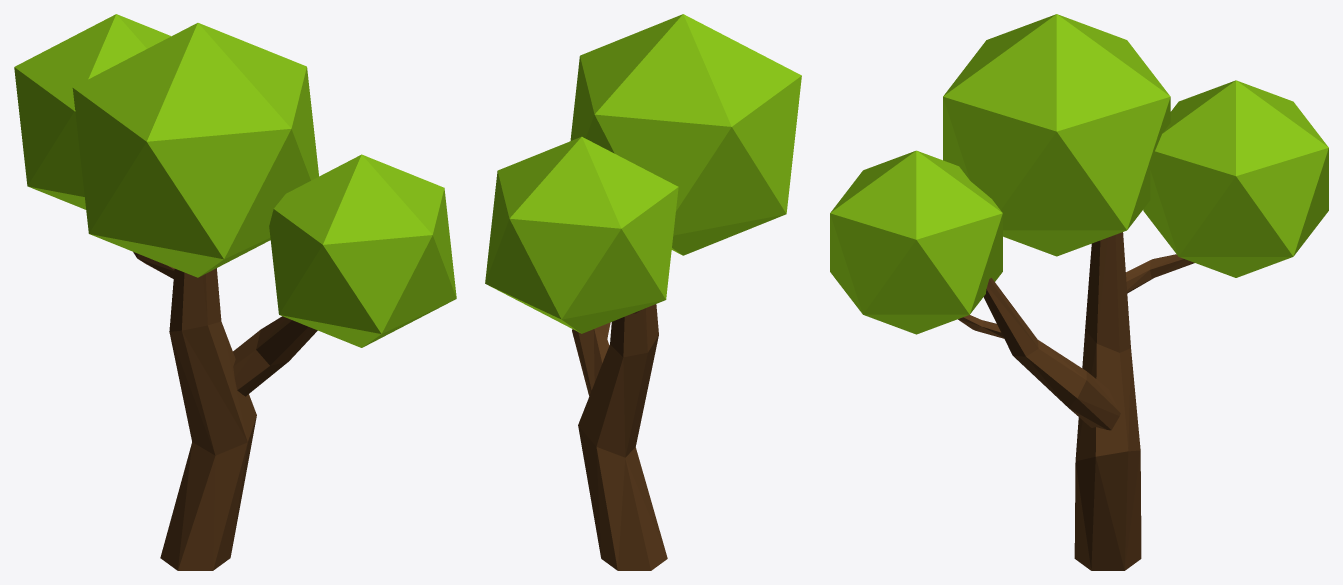
File: tree_fixed.fbx
The picture shows the model from 3 angles, left to right: view 1: azimuth 30°, elevation 25°; view 2: azimuth 150°, elevation 25°; view 3: azimuth 270°, elevation 25°; orthographic projection. The views are drawn at different scales.
Parts seen in each view (by area): view 1: Icosphere.002; view 2: Icosphere.002; view 3: Icosphere.002.
Boxes of the visible parts, box(x1,y1,x2,y2) form: Icosphere.002: box(14, 14, 456, 570); Icosphere.002: box(485, 14, 801, 570); Icosphere.002: box(830, 14, 1328, 570).
Size of the model in its own units: 556 by 1059 by 897.
